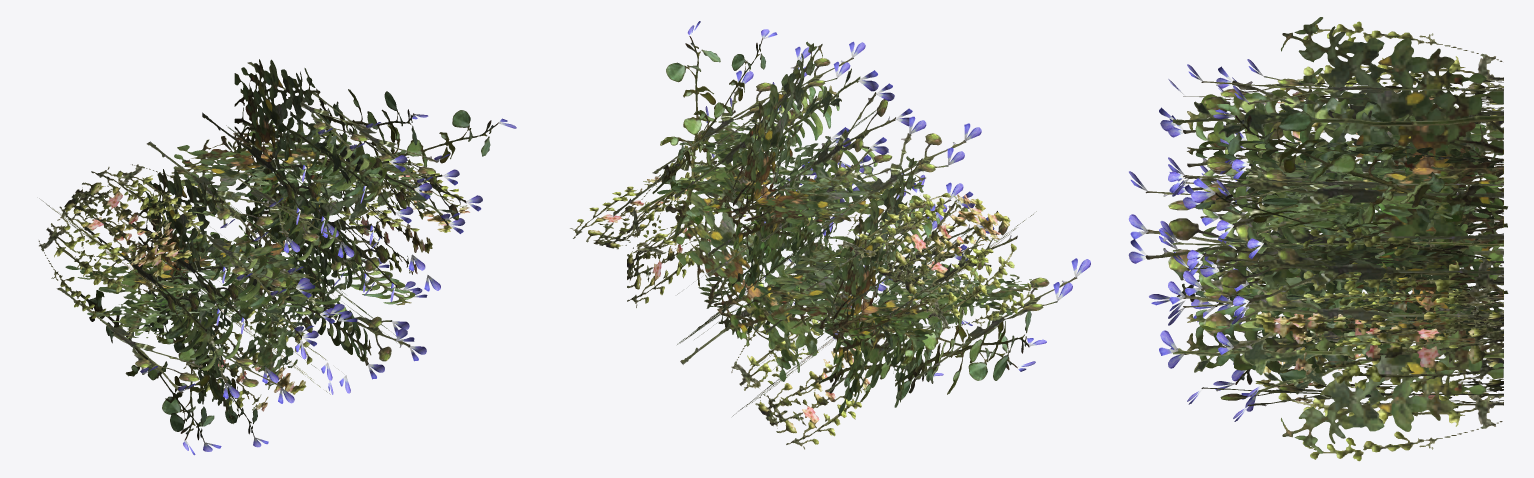
Rendered from foliage_gardenflowers_blue_group_LOD2.obj.
3 renders of one model, left to right at view 1: azimuth 30°, elevation 25°; view 2: azimuth 150°, elevation 25°; view 3: azimuth 270°, elevation 25°, orthographic. The views are drawn at different scales.
Visible parts, largest first — view 1: mtl_gardenflowers; view 2: mtl_gardenflowers; view 3: mtl_gardenflowers.
Boxes of the visible parts, x1=… form: mtl_gardenflowers: x1=38, y1=59, x2=516, y2=455; mtl_gardenflowers: x1=570, y1=21, x2=1090, y2=449; mtl_gardenflowers: x1=1128, y1=17, x2=1508, y2=461.
Size of the model in its own units: 99.22 by 83.36 by 66.35.
